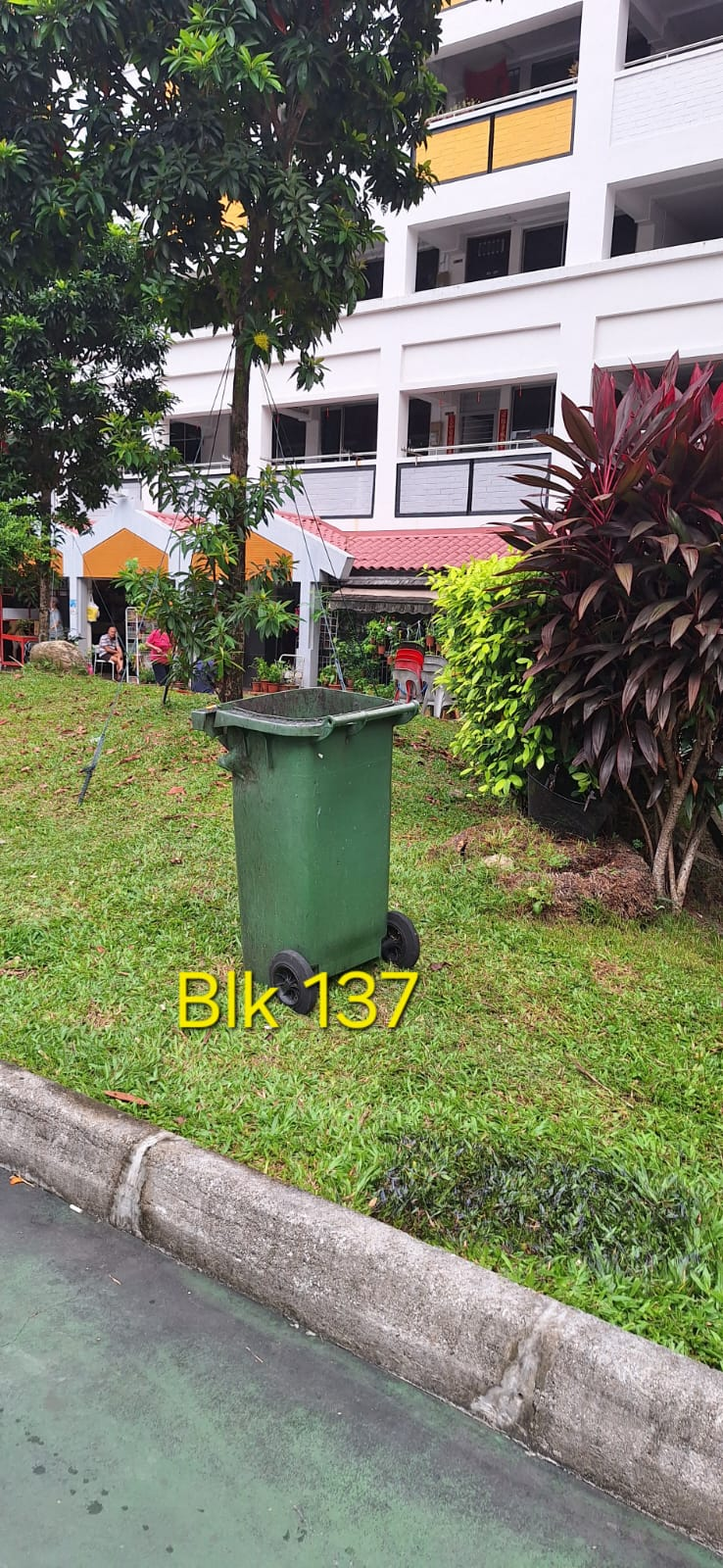bin_empty: (192, 686, 417, 1012)
